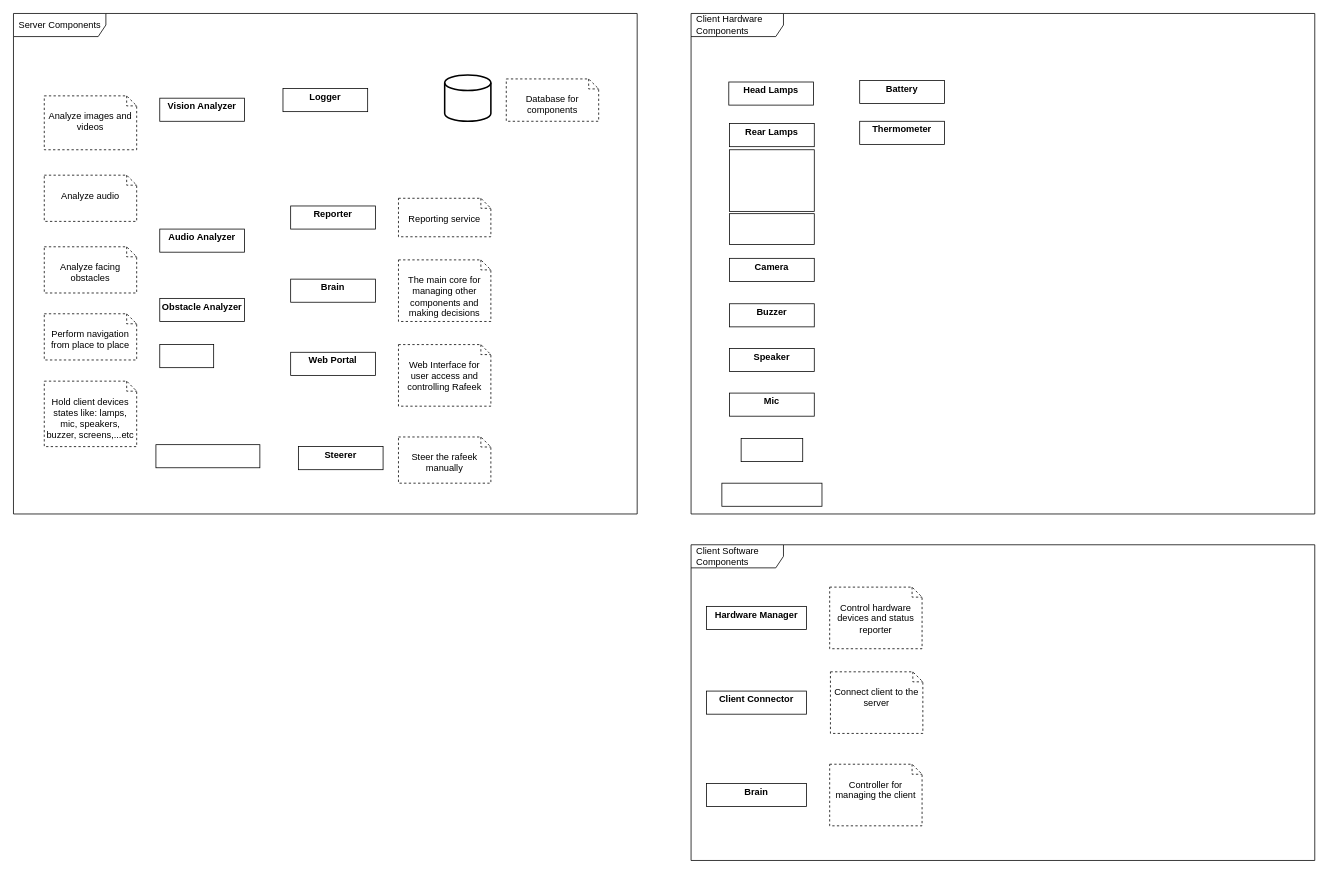
Some shapes in this 1328 by 874 pixel diagram are drawn without their labels. Here are the shapes that lost their labels. From the top down, the centre of each, then its label:
(467,98): Database
(771,180): LED Indicators 1-Ready 2-Error LED ...
(771,228): 4-DC Motors for Wheels
(186,356): Navigator
(207,456): Client Hardware Devices
(771,450): ESP32
(771,494): Camera Servo Motor
